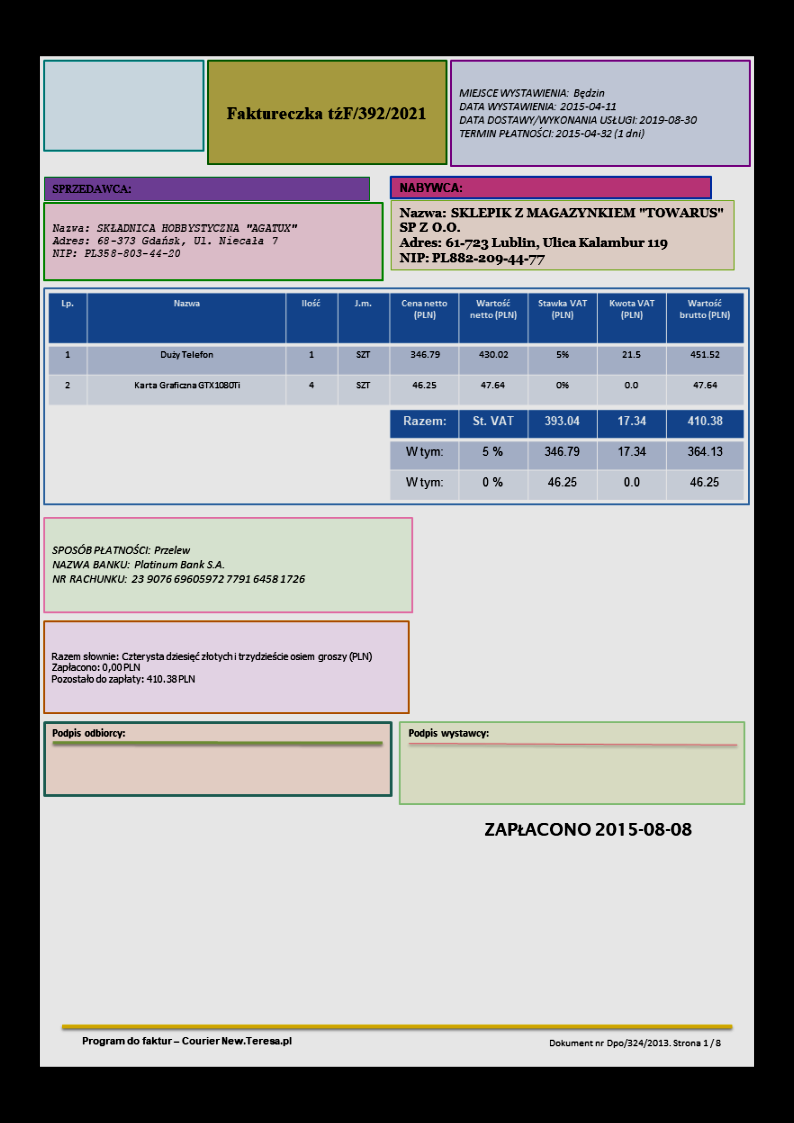Table: (48, 291, 744, 406), (389, 408, 744, 501)
TextBox: (397, 206, 726, 266), (457, 87, 698, 141), (51, 649, 374, 685), (50, 542, 307, 585), (51, 220, 298, 260), (225, 104, 427, 122), (483, 820, 692, 837), (79, 1034, 294, 1049), (547, 1035, 723, 1051), (50, 181, 134, 197), (406, 726, 490, 741), (50, 726, 127, 740), (398, 179, 464, 195)
